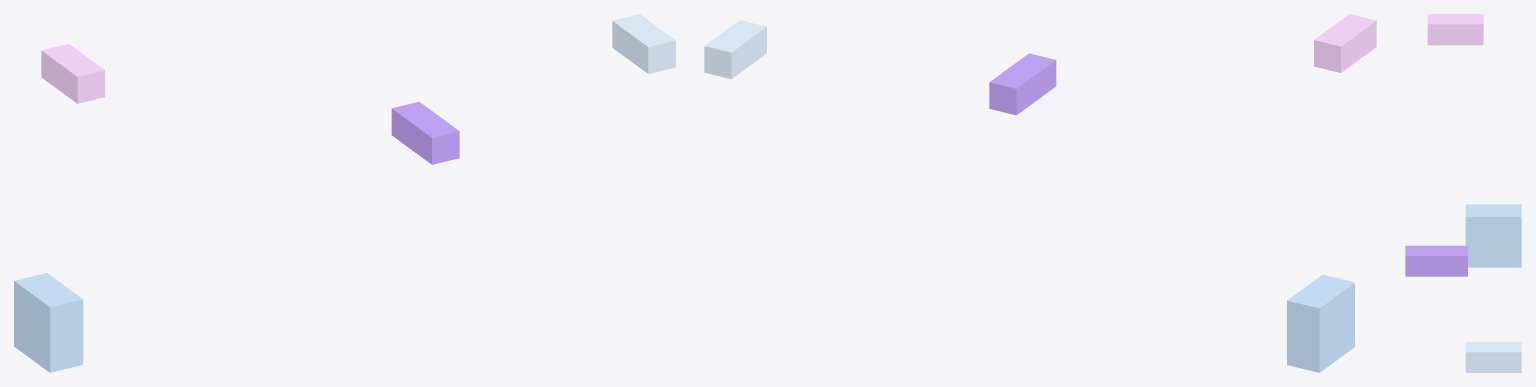
3 views of the same model, side by side, from view 1: azimuth 30°, elevation 25°; view 2: azimuth 150°, elevation 25°; view 3: azimuth 270°, elevation 25° (orthographic). The views are drawn at different scales.
Parts seen in each view (by area): view 1: Image encoder / representation, Gated fusion, Text encoder / attention, Output head; view 2: Image encoder / representation, Gated fusion, Text encoder / attention, Output head; view 3: Image encoder / representation, Gated fusion, Text encoder / attention, Output head.
Part boxes in pixels (x1,y1,x2,y2): Image encoder / representation: [14, 273, 83, 372]; Gated fusion: [391, 101, 459, 164]; Text encoder / attention: [41, 43, 104, 103]; Output head: [612, 14, 675, 73]; Image encoder / representation: [1287, 274, 1354, 372]; Gated fusion: [989, 53, 1056, 115]; Text encoder / attention: [1314, 14, 1376, 72]; Output head: [704, 20, 766, 79]; Image encoder / representation: [1465, 204, 1521, 267]; Gated fusion: [1405, 245, 1467, 276]; Text encoder / attention: [1427, 14, 1483, 45]; Output head: [1465, 341, 1521, 372].
Size of the model in its own units: 27.22 by 13.02 by 5.66.
